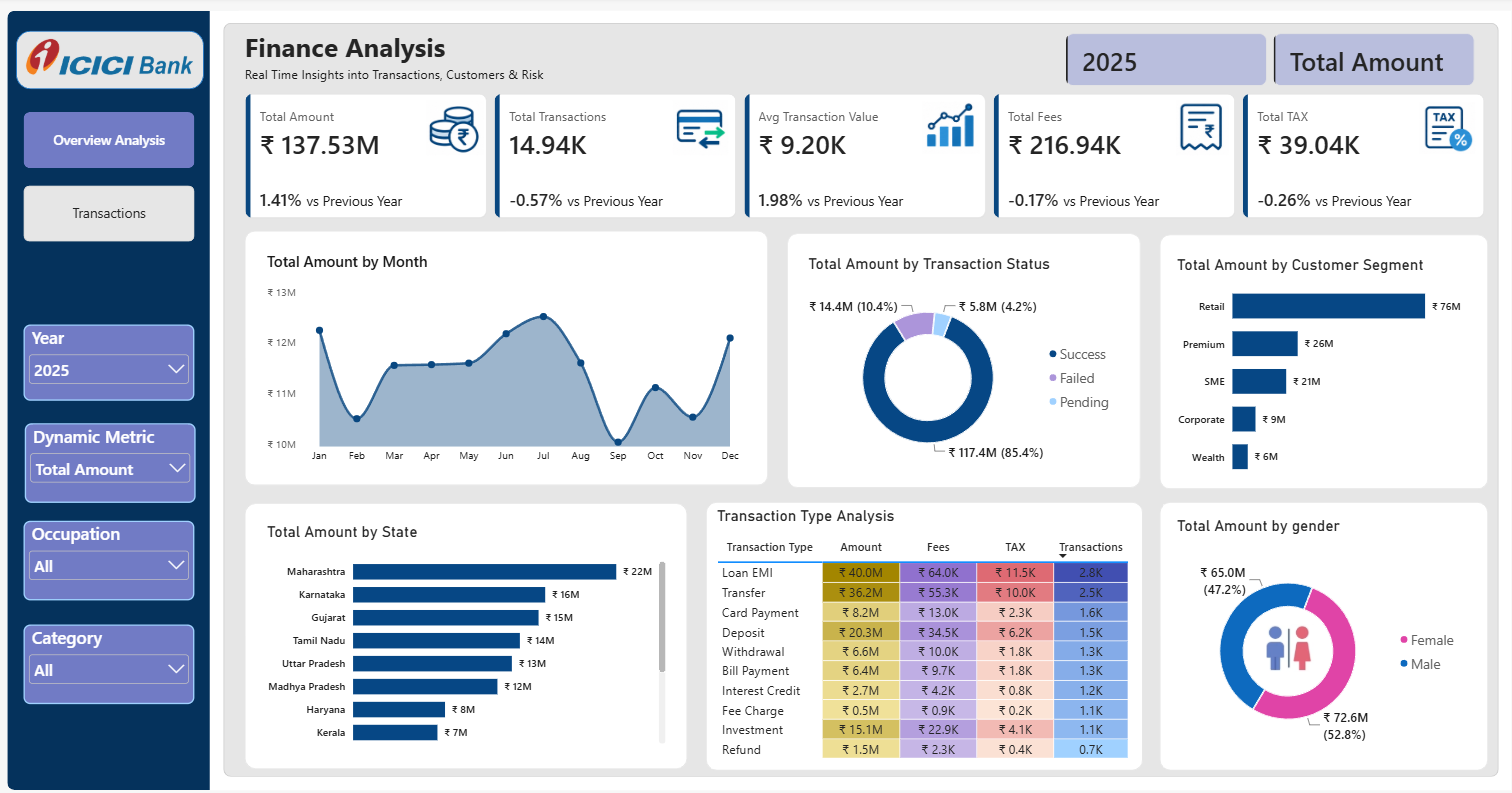

This screenshot's page, from the dashboard's own definition file:
{"tool":"powerbi","page":{"name":"Overview Analysis","canvas":[1800,950],"ordinal":0},"visuals":[{"type":"shape","box":[13.1,16.4,279.6,915.7],"z":0},{"type":"shape","box":[251.8,16.4,1530.5,915.7],"z":1000},{"type":"shape","box":[22.9,39.2,220.7,68.7],"z":2000},{"type":"image","box":[18,34.3,230.6,78.5],"z":3000},{"type":"cardVisual","fields":{"Data":["finance_transactions.DAshboard Title"]},"box":[292.7,29.4,390.8,78.5],"z":4000},{"type":"cardVisual","fields":{"Data":["finance_transactions.Total Amount","finance_transactions.Total Transactions","finance_transactions.Avg Transaction Value","finance_transactions.Total Fees","finance_transactions.Total TAX"]},"box":[292.7,112.8,1460.2,147.2],"z":5000},{"type":"slicer","fields":{"Values":["Calander Table.Year"]},"box":[32.7,384.3,201.1,89.9],"z":6000},{"type":"image","box":[505.3,122.6,68.7,63.8],"z":7000},{"type":"image","box":[793.1,122.6,68.7,63.8],"z":8000},{"type":"image","box":[1089,122.6,67,63.8],"z":9000},{"type":"image","box":[1386.6,122.6,62.1,63.8],"z":10000},{"type":"image","box":[1672.8,122.6,65.4,63.8],"z":11000},{"type":"slicer","fields":{"Values":["Dynamic Metric.Dynamic Metric"]},"box":[34.3,500.4,201.1,93.2],"z":12000},{"type":"shape","box":[292.7,274.7,614.8,299.2],"z":13000},{"type":"areaChart","fields":{"Category":["Calander Table.Month"],"Y":["finance_transactions.Total Amount"]},"box":[302.5,284.5,593.6,282.9],"z":14000},{"type":"cardVisual","fields":{"Data":["finance_transactions.Selected Year","finance_transactions.Selected Dynamic Measure 1"]},"box":[1257.5,42.5,480.7,62.1],"z":15000},{"type":"shape","box":[930.4,278,415.3,299.2],"z":16000},{"type":"donutChart","fields":{"Category":["finance_transactions.transaction_status"],"Y":["finance_transactions.Total Amount"]},"box":[938.6,287.8,394.1,282.9],"z":17000},{"type":"shape","box":[1367,279.6,385.9,299.2],"z":18000},{"type":"barChart","fields":{"Category":["customers.customer_segment"],"Y":["finance_transactions.Total Amount"]},"box":[1371.9,289.4,366.3,282.9],"z":19000},{"type":"shape","box":[292.7,595.2,520,312.3],"z":20000},{"type":"barChart","fields":{"Category":["customers.state"],"Y":["finance_transactions.Total Amount"]},"box":[302.5,603.4,500.4,289.4],"z":21000},{"type":"shape","box":[833.9,593.6,513.4,315.6],"z":22000},{"type":"tableEx","title":"Transaction Type Analysis","fields":{"Values":["finance_transactions.transaction_type","finance_transactions.Total Amount","finance_transactions.Total Fees","finance_transactions.Total TAX","finance_transactions.Total Transactions"]},"box":[840.5,596.8,498.7,310.7],"z":23000},{"type":"shape","box":[1367,593.6,385.9,315.6],"z":24000},{"type":"donutChart","fields":{"Category":["customers.gender"],"Y":["finance_transactions.Total Amount"]},"box":[1371.9,596.8,366.3,309],"z":25000},{"type":"image","box":[1486.4,737.5,68.7,55.6],"z":26000},{"type":"slicer","fields":{"Values":["customers.occupation"]},"box":[32.7,614.8,201.1,93.2],"z":27000},{"type":"slicer","fields":{"Values":["finance_transactions.merchant_category"]},"box":[32.7,737.5,201.1,93.2],"z":28000},{"type":"pageNavigator","box":[32.7,135.7,201.1,153.7],"z":29000}]}

Visuals, with their boxes on the page's 1800x950 design canvas (x1, y1, x2, y2). These are canvas units, not pixel positions in the 1512x793 screenshot, which may show the page scaled, cropped or inside an application window:
shape: box=[13, 16, 293, 932]
shape: box=[252, 16, 1782, 932]
shape: box=[23, 39, 244, 108]
image: box=[18, 34, 249, 113]
cardVisual - finance_transactions.DAshboard Title: box=[293, 29, 684, 108]
cardVisual - finance_transactions.Total Amount x finance_transactions.Total Transactions: box=[293, 113, 1753, 260]
slicer - Calander Table.Year: box=[33, 384, 234, 474]
image: box=[505, 123, 574, 186]
image: box=[793, 123, 862, 186]
image: box=[1089, 123, 1156, 186]
image: box=[1387, 123, 1449, 186]
image: box=[1673, 123, 1738, 186]
slicer - Dynamic Metric.Dynamic Metric: box=[34, 500, 235, 594]
shape: box=[293, 275, 908, 574]
areaChart - Calander Table.Month x finance_transactions.Total Amount: box=[302, 284, 896, 567]
cardVisual - finance_transactions.Selected Year x finance_transactions.Selected Dynamic Measure 1: box=[1258, 42, 1738, 105]
shape: box=[930, 278, 1346, 577]
donutChart - finance_transactions.transaction_status x finance_transactions.Total Amount: box=[939, 288, 1333, 571]
shape: box=[1367, 280, 1753, 579]
barChart - customers.customer_segment x finance_transactions.Total Amount: box=[1372, 289, 1738, 572]
shape: box=[293, 595, 813, 908]
barChart - customers.state x finance_transactions.Total Amount: box=[302, 603, 803, 893]
shape: box=[834, 594, 1347, 909]
"Transaction Type Analysis" tableEx: box=[840, 597, 1339, 908]
shape: box=[1367, 594, 1753, 909]
donutChart - customers.gender x finance_transactions.Total Amount: box=[1372, 597, 1738, 906]
image: box=[1486, 738, 1555, 793]
slicer - customers.occupation: box=[33, 615, 234, 708]
slicer - finance_transactions.merchant_category: box=[33, 738, 234, 831]
pageNavigator: box=[33, 136, 234, 289]
